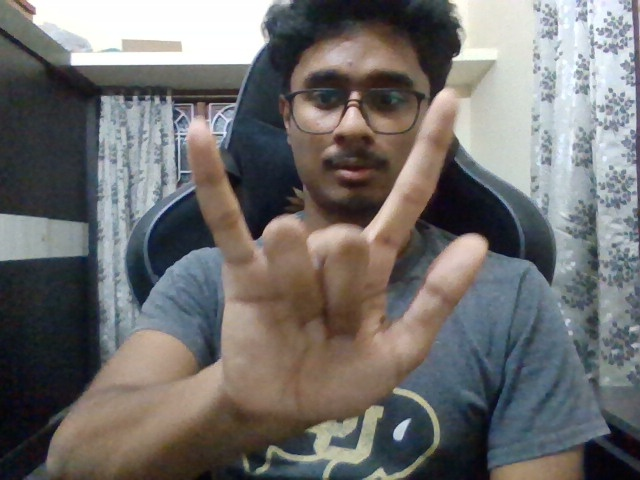i love you: (148, 87, 501, 433)
